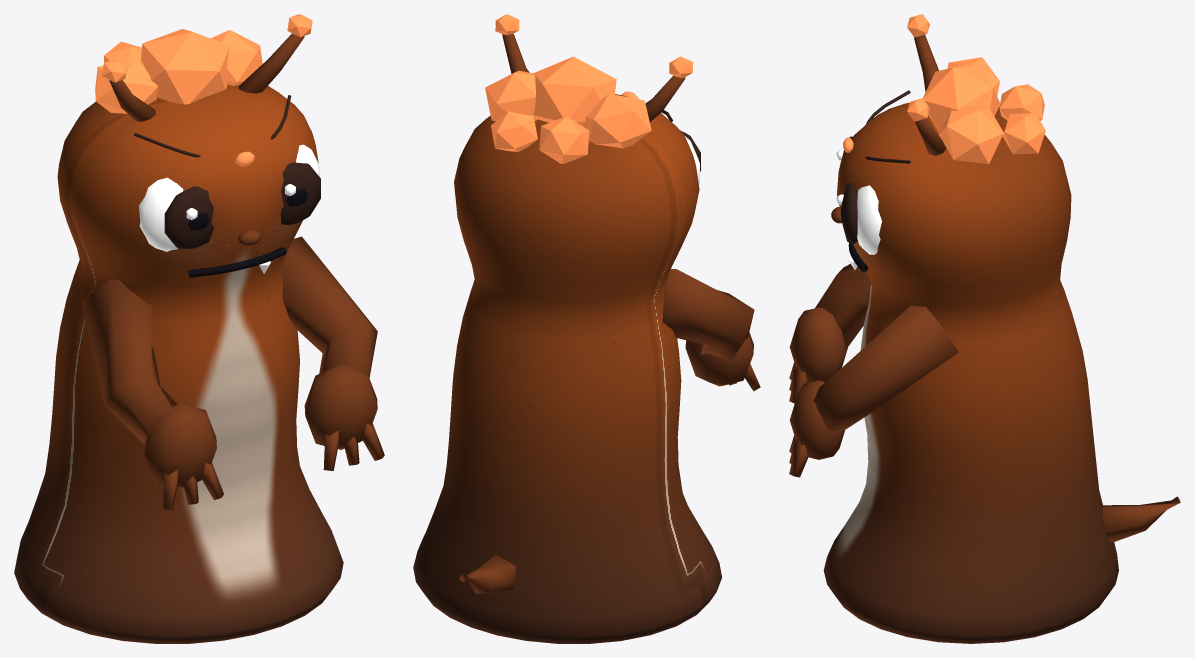
The model's file is demoledora_pixar.glb.
The picture shows the model from 3 angles, left to right: view 1: azimuth 30°, elevation 25°; view 2: azimuth 150°, elevation 25°; view 3: azimuth 270°, elevation 25°; orthographic projection. The views are drawn at different scales.
Visible parts, largest first — view 1: demoledora_cuerpo; view 2: demoledora_cuerpo; view 3: demoledora_cuerpo.
Part boxes in pixels (x1,y1,x2,y2): demoledora_cuerpo: (14,14,384,643); demoledora_cuerpo: (413,14,760,643); demoledora_cuerpo: (789,14,1180,643).
Bounding box in the file's own units: 0.3116 × 0.58 × 0.3934.
Materials: 5 (1 with a texture image).
